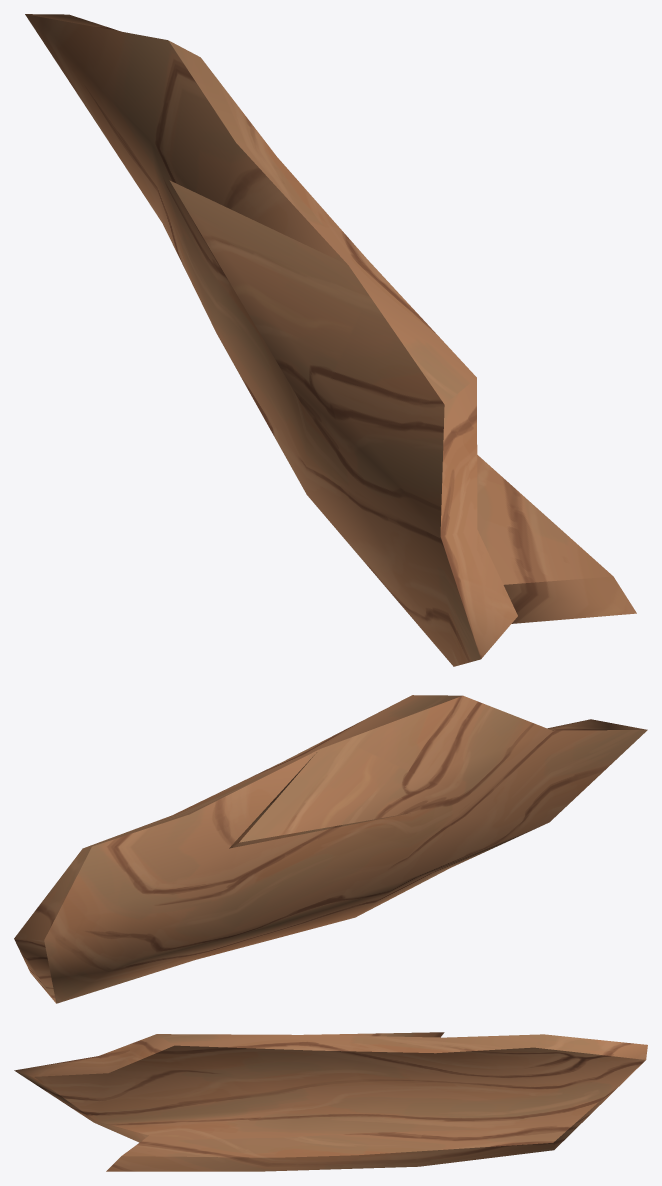
File: Fbx_DeadTree06.fbx
The picture shows the model from 3 angles, top to bottom: view 1: azimuth 30°, elevation 25°; view 2: azimuth 150°, elevation 25°; view 3: azimuth 270°, elevation 25°; orthographic projection. The views are drawn at different scales.
Visible parts, largest first — view 1: DeadTree06; view 2: DeadTree06; view 3: DeadTree06.
Boxes of the visible parts, box(x1,y1,x2,y2) form: DeadTree06: box(25, 14, 636, 666); DeadTree06: box(14, 695, 647, 1003); DeadTree06: box(14, 1032, 647, 1171).
Bounding box in the file's own units: 44.05 × 41.09 × 166.
Materials: 1 (1 with a texture image).
